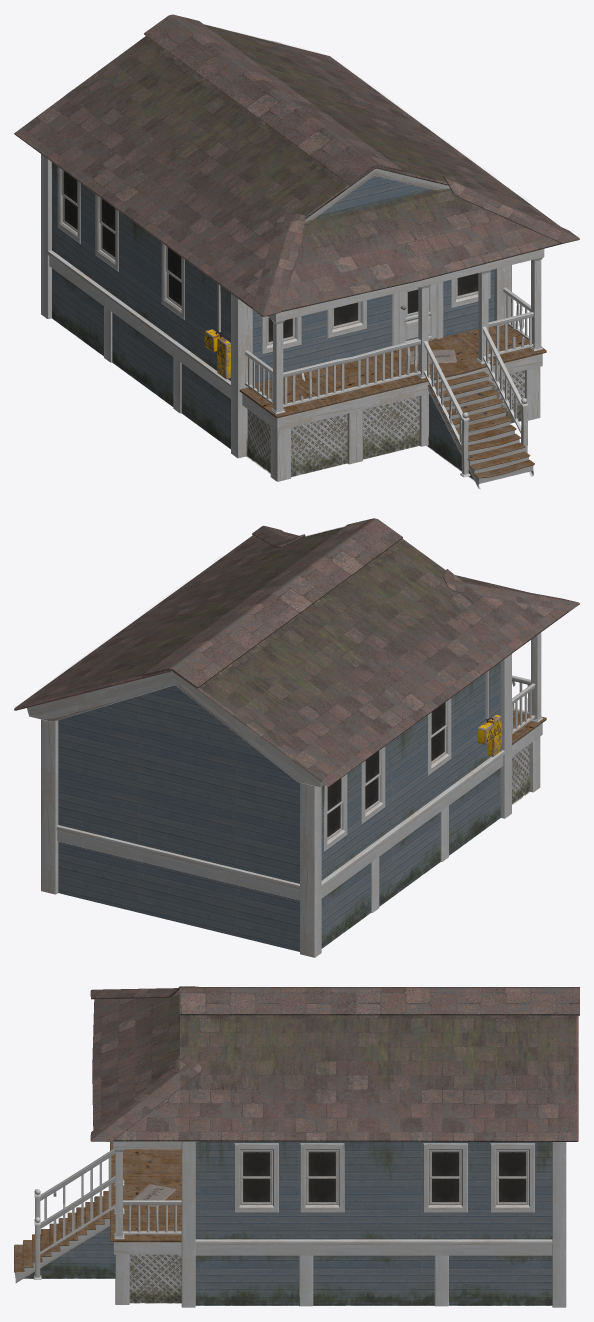
Rendered from mobile_house.glb.
The picture shows the model from 3 angles, top to bottom: view 1: azimuth 30°, elevation 25°; view 2: azimuth 150°, elevation 25°; view 3: azimuth 270°, elevation 25°; orthographic projection. The views are drawn at different scales.
Parts seen in each view (by area): view 1: LPHouse, LPHouseDecals; view 2: LPHouse, LPHouseDecals; view 3: LPHouse, LPHouseDecals.
Boxes of the visible parts, x1=… form: LPHouse: x1=14, y1=14, x2=579, y2=489; LPHouseDecals: x1=49, y1=24, x2=520, y2=480; LPHouse: x1=14, y1=518, x2=579, y2=957; LPHouseDecals: x1=64, y1=526, x2=530, y2=948; LPHouse: x1=14, y1=986, x2=579, y2=1307; LPHouseDecals: x1=26, y1=995, x2=576, y2=1305.
Bounding box in the file's own units: 5.93 × 4.77 × 9.4.
7 materials, 7 textured.
